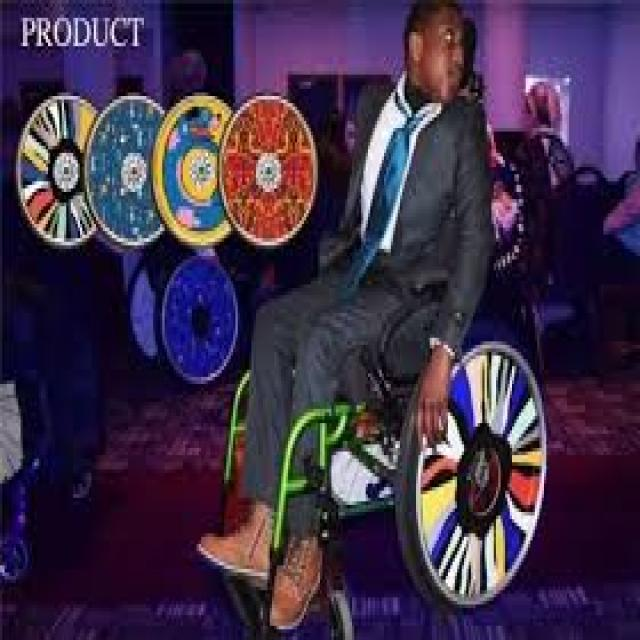wheelchairs: (226, 234, 597, 636)
